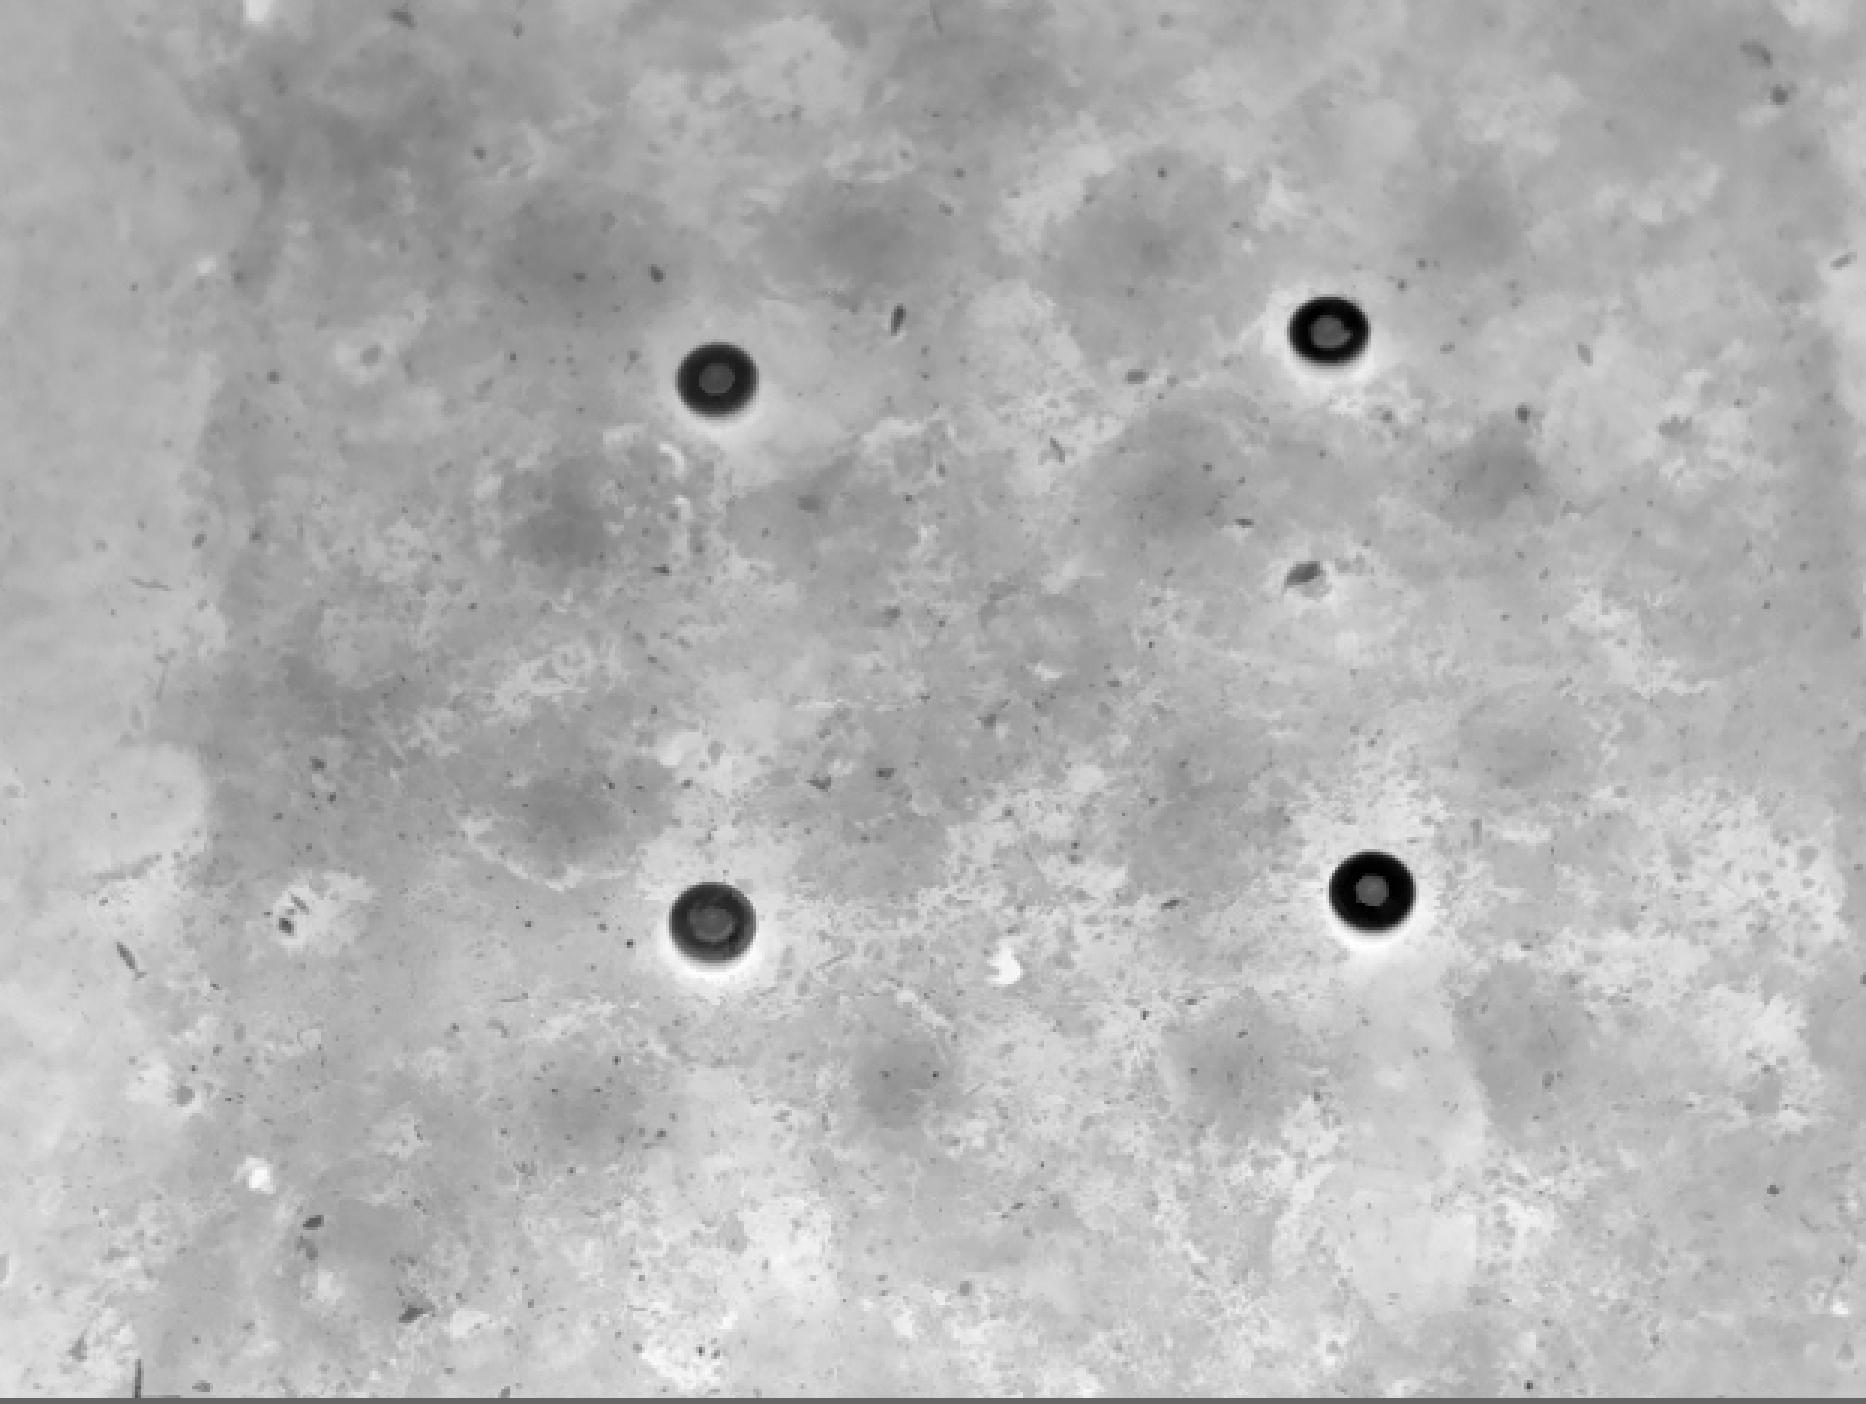mines-gjV8: (673, 875, 766, 970), (1329, 847, 1423, 939), (1285, 295, 1376, 379), (676, 342, 771, 416)
